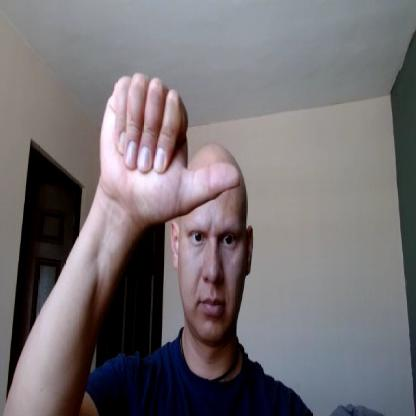A: (100, 72, 242, 223)
